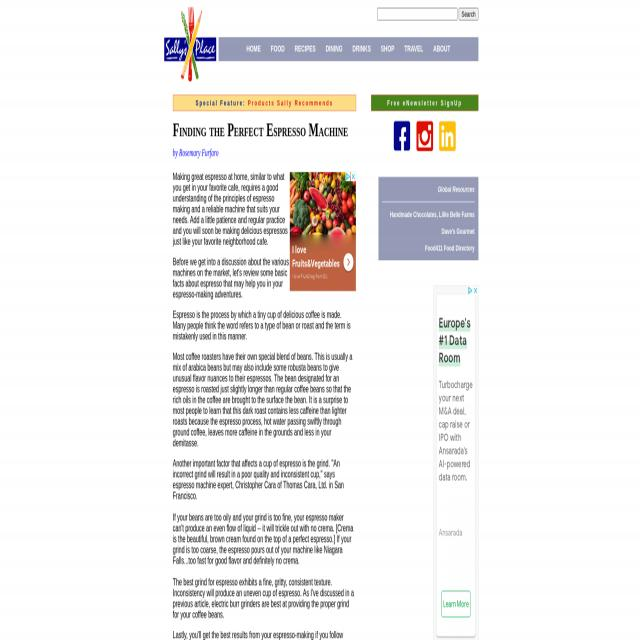button: (290, 172, 356, 291), (162, 0, 218, 82), (441, 592, 470, 618), (393, 121, 411, 152), (438, 121, 456, 152), (416, 121, 433, 152), (459, 8, 478, 20), (344, 254, 353, 270), (344, 172, 350, 182), (351, 171, 356, 179)
field: (377, 8, 457, 20)
